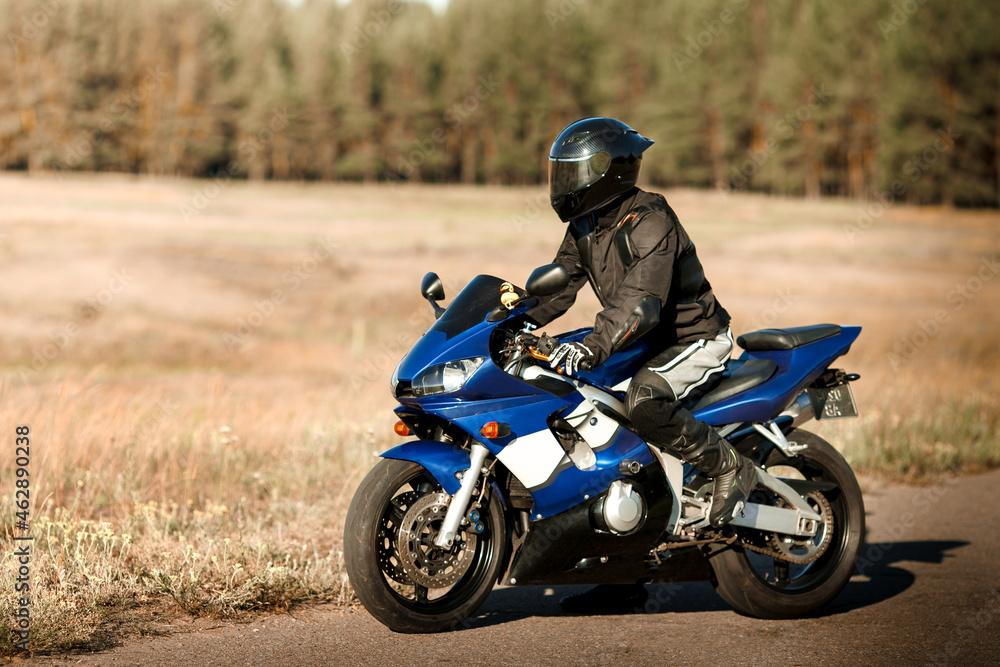helmet: (547, 115, 656, 224)
